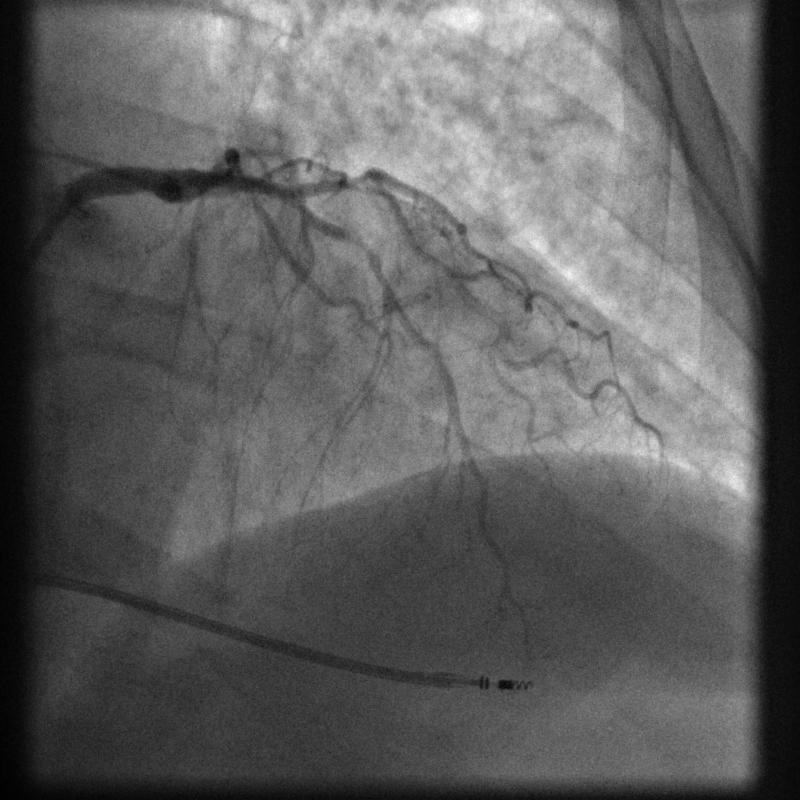Stenosis: (346, 231, 379, 268)
